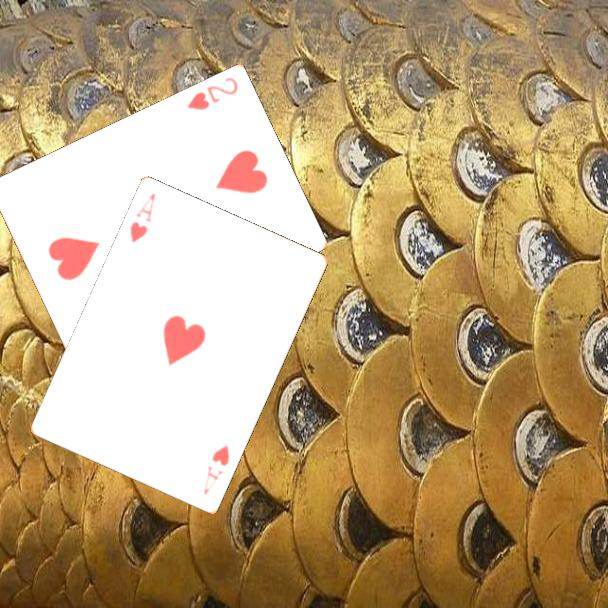h01: (200, 442, 233, 498), (127, 190, 158, 246)
h02: (184, 74, 241, 113)
